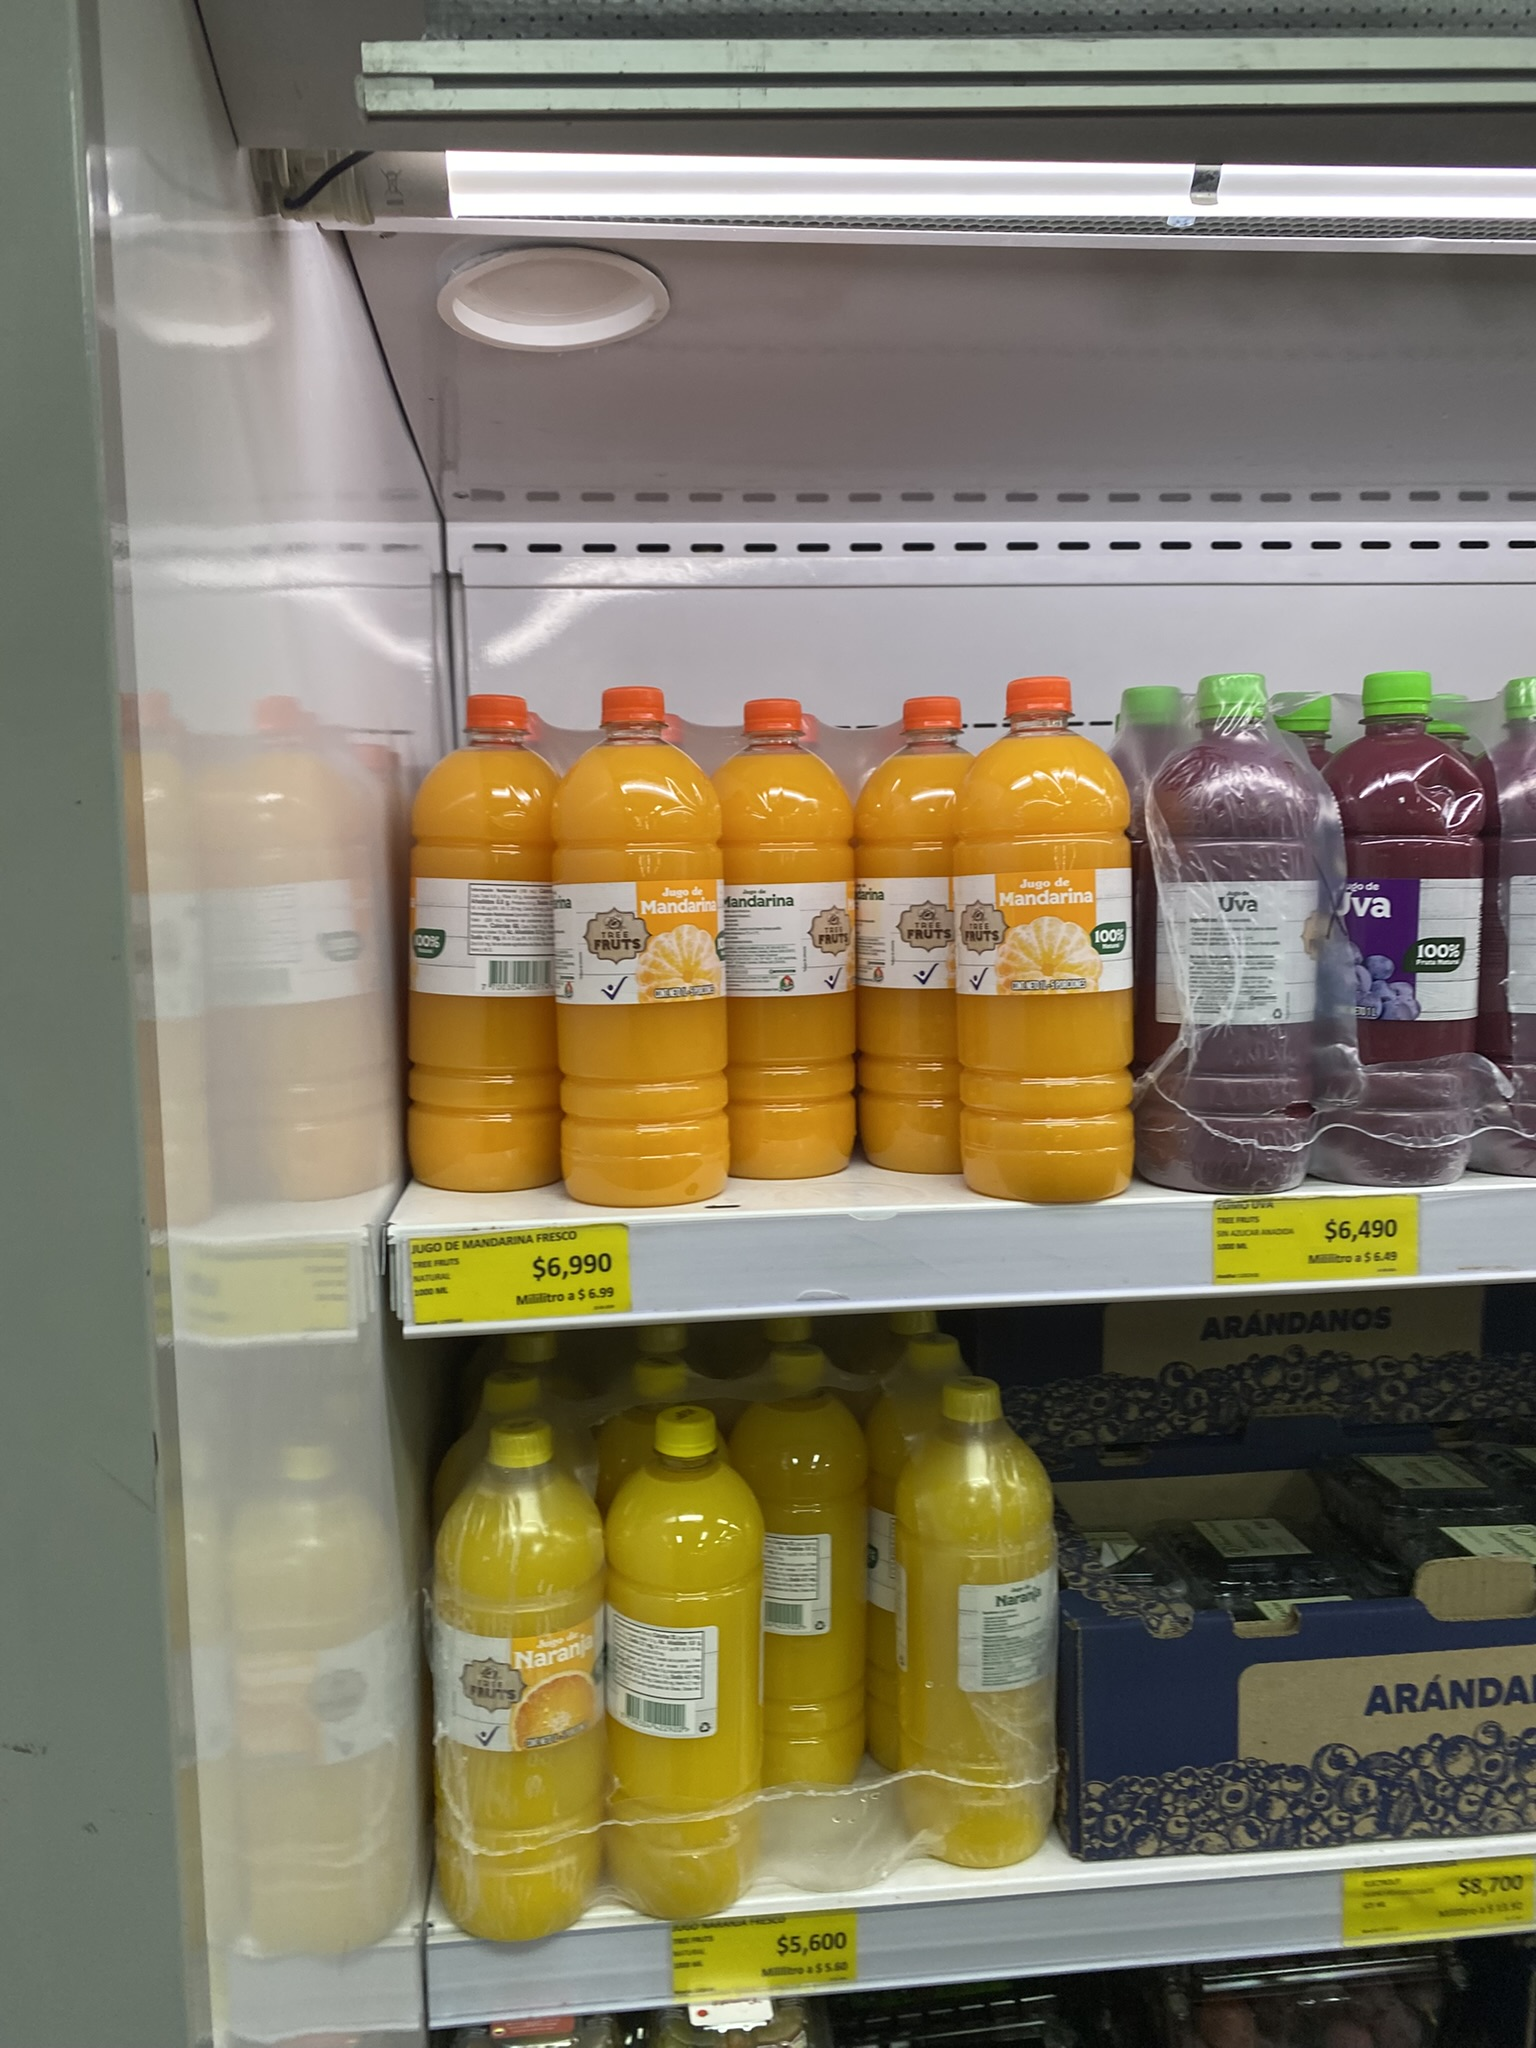Jugo de Mandarina: (381, 687, 553, 1182), (981, 671, 1134, 1206), (558, 692, 721, 1195), (718, 692, 862, 1182), (858, 684, 994, 1176)
